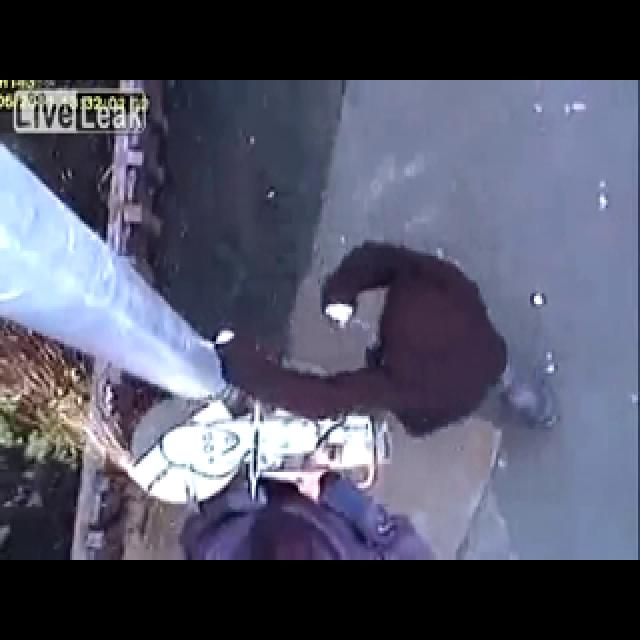vandalism: (212, 140, 547, 572)
